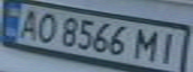5: (75, 17, 96, 52)
6: (109, 23, 133, 57), (90, 20, 112, 54)
8: (54, 15, 81, 48)
A: (12, 6, 45, 39)
I: (154, 29, 187, 65)
M: (130, 26, 163, 62)
O: (30, 11, 63, 44)
